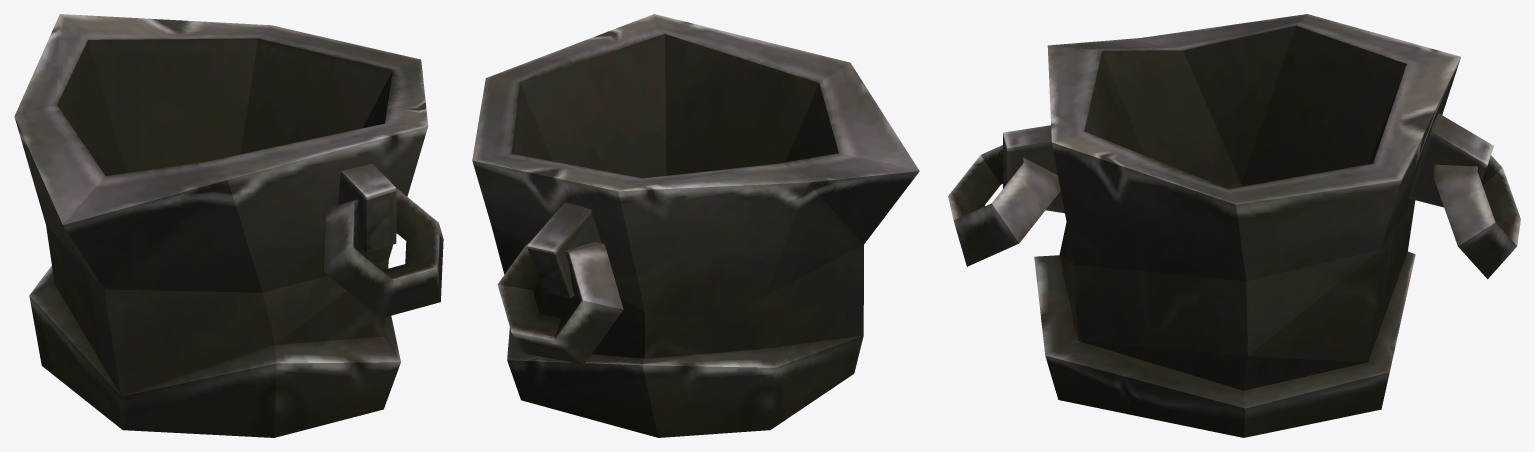
Rendered from bandit_cauldron_01.fbx.
The picture shows the model from 3 angles, left to right: view 1: azimuth 30°, elevation 25°; view 2: azimuth 150°, elevation 25°; view 3: azimuth 270°, elevation 25°; orthographic projection. The views are drawn at different scales.
Parts seen in each view (by area): view 1: obj0.589; view 2: obj0.589; view 3: obj0.589.
Part boxes in pixels (x1=…): obj0.589: x1=14, y1=14, x2=443, y2=437; obj0.589: x1=472, y1=14, x2=919, y2=437; obj0.589: x1=948, y1=14, x2=1520, y2=437.
Bounding box in the file's own units: 0.9595 × 0.6357 × 1.16.
